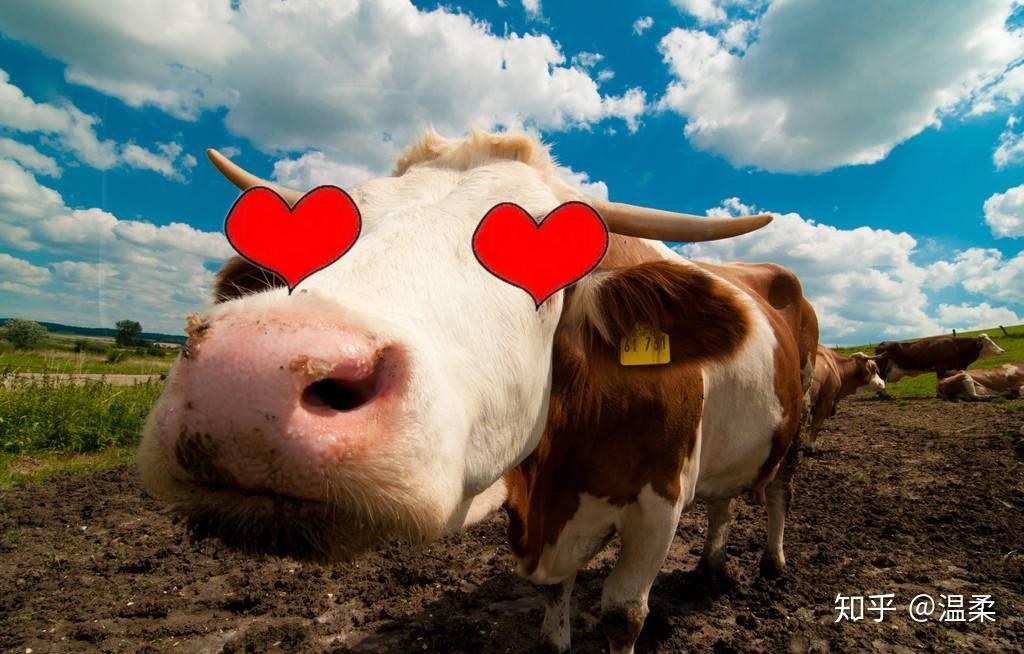background: (142, 122, 812, 642)
